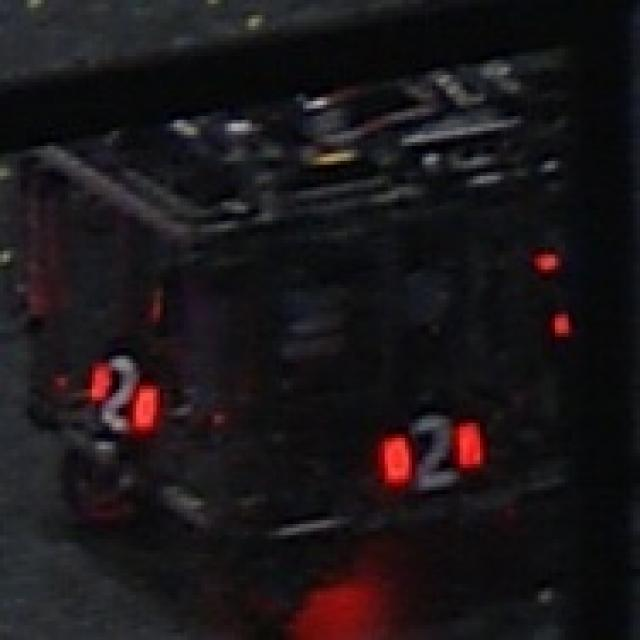R2: (378, 412, 483, 490), (85, 348, 157, 434)
